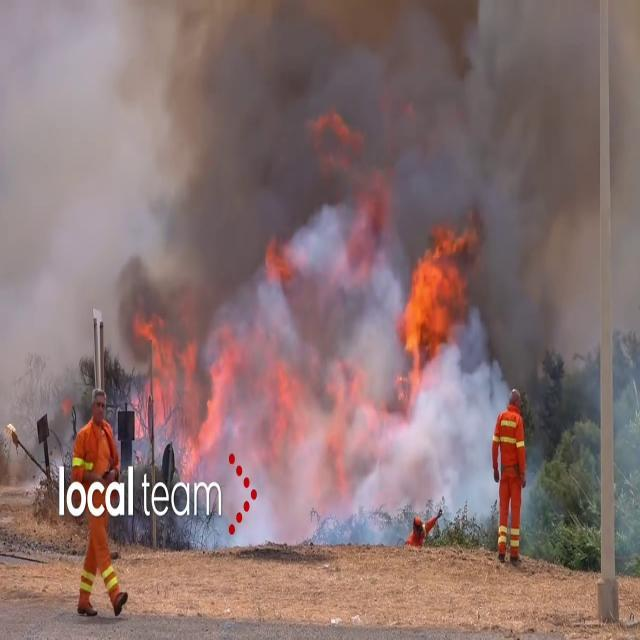Fire: (133, 308, 235, 467), (396, 216, 476, 392)
Smoke: (39, 0, 606, 542)
